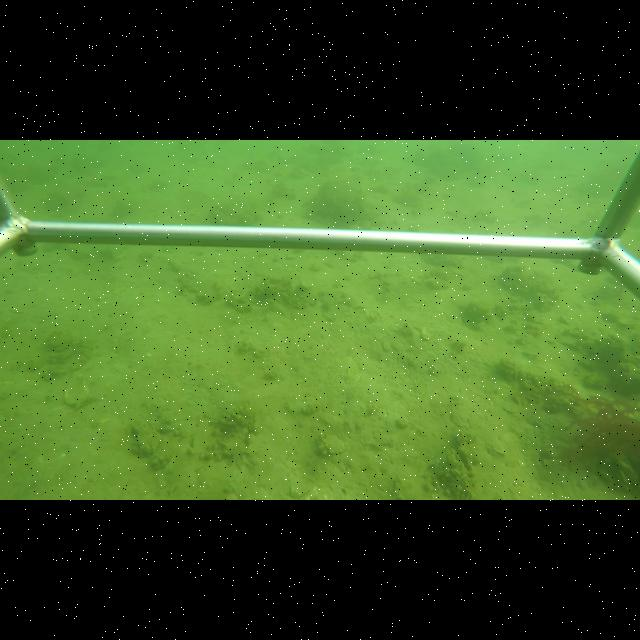Oyster-Closed: (446, 447, 477, 500)
